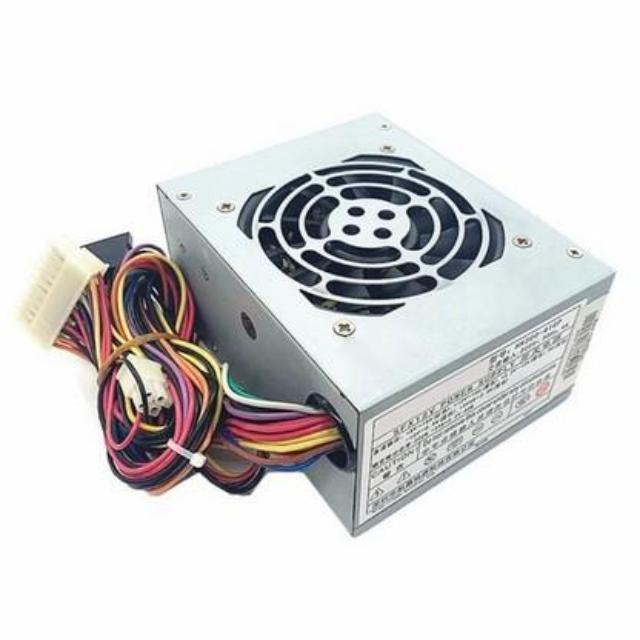PSU: (148, 101, 614, 544)
